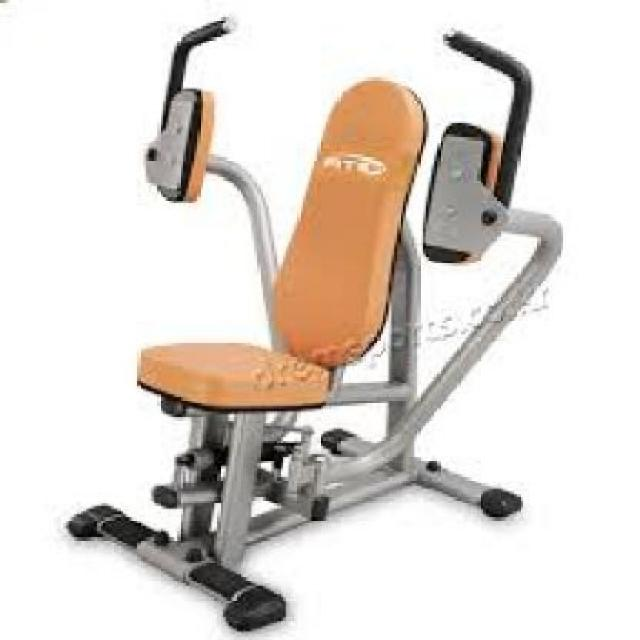chest fly machine: (58, 4, 570, 640)
